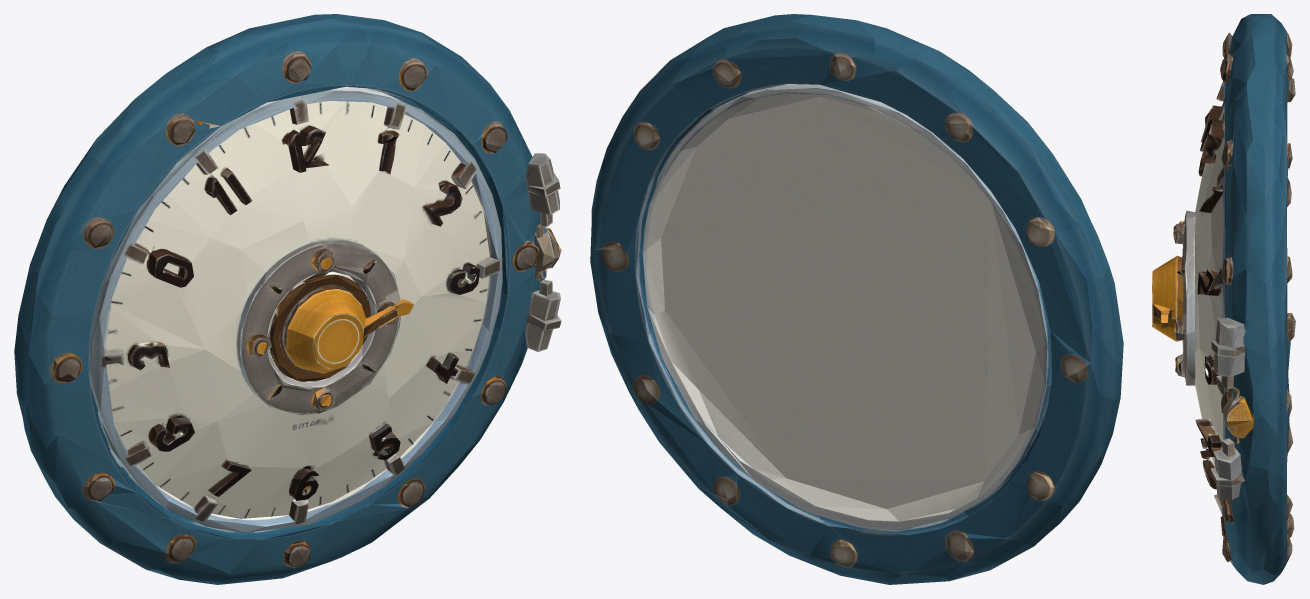
3 views of the same model, side by side, from view 1: azimuth 30°, elevation 25°; view 2: azimuth 150°, elevation 25°; view 3: azimuth 270°, elevation 25° (orthographic). The views are drawn at different scales.
Parts seen in each view (by area): view 1: output_unwrapped; view 2: output_unwrapped; view 3: output_unwrapped.
Boxes of the visible parts, x1,y1,x2,y2 form: output_unwrapped: (14,14,561,584); output_unwrapped: (590,14,1123,584); output_unwrapped: (1152,14,1295,584).
Bounding box in the file's own units: 1.9 × 1.9 × 0.4768.
1 material, 1 textured.
